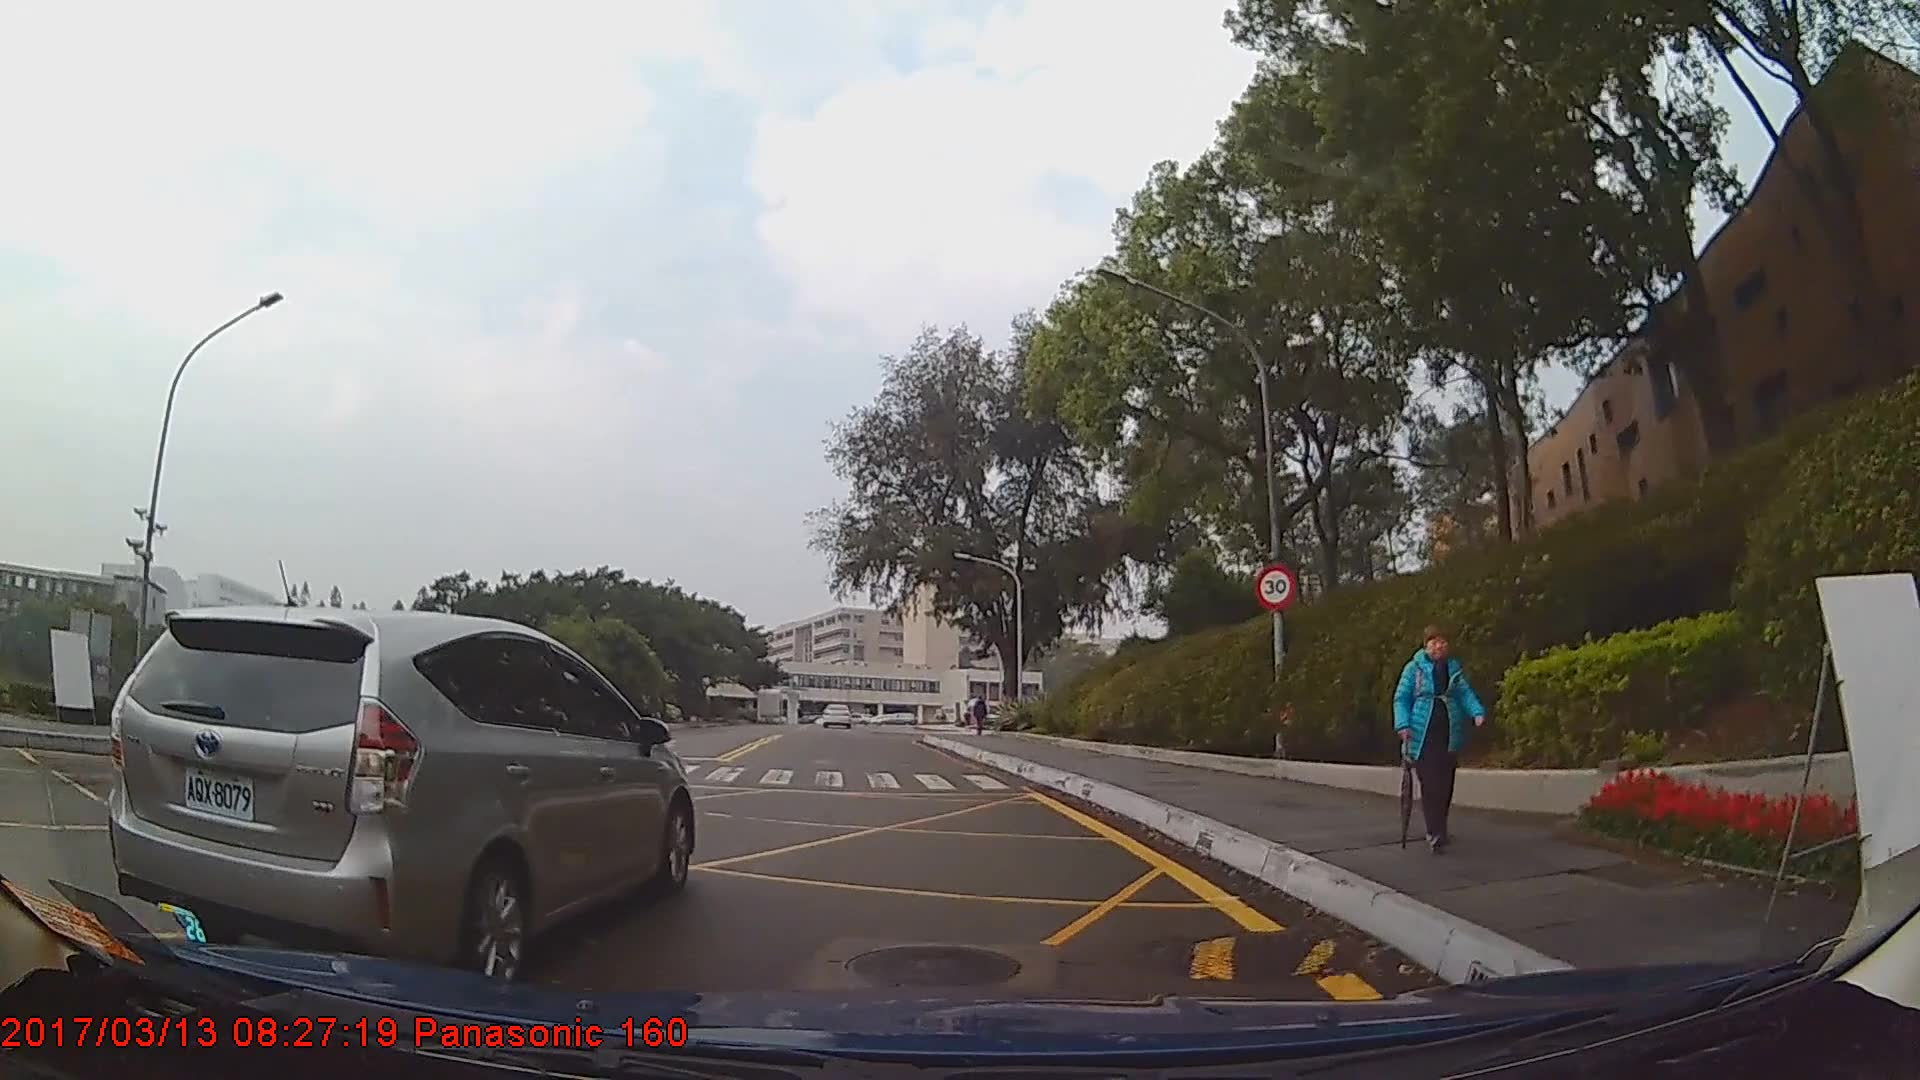pedestrian: (1382, 610, 1500, 870), (973, 696, 993, 737)
vehicle: (108, 609, 696, 985), (818, 700, 852, 727)
